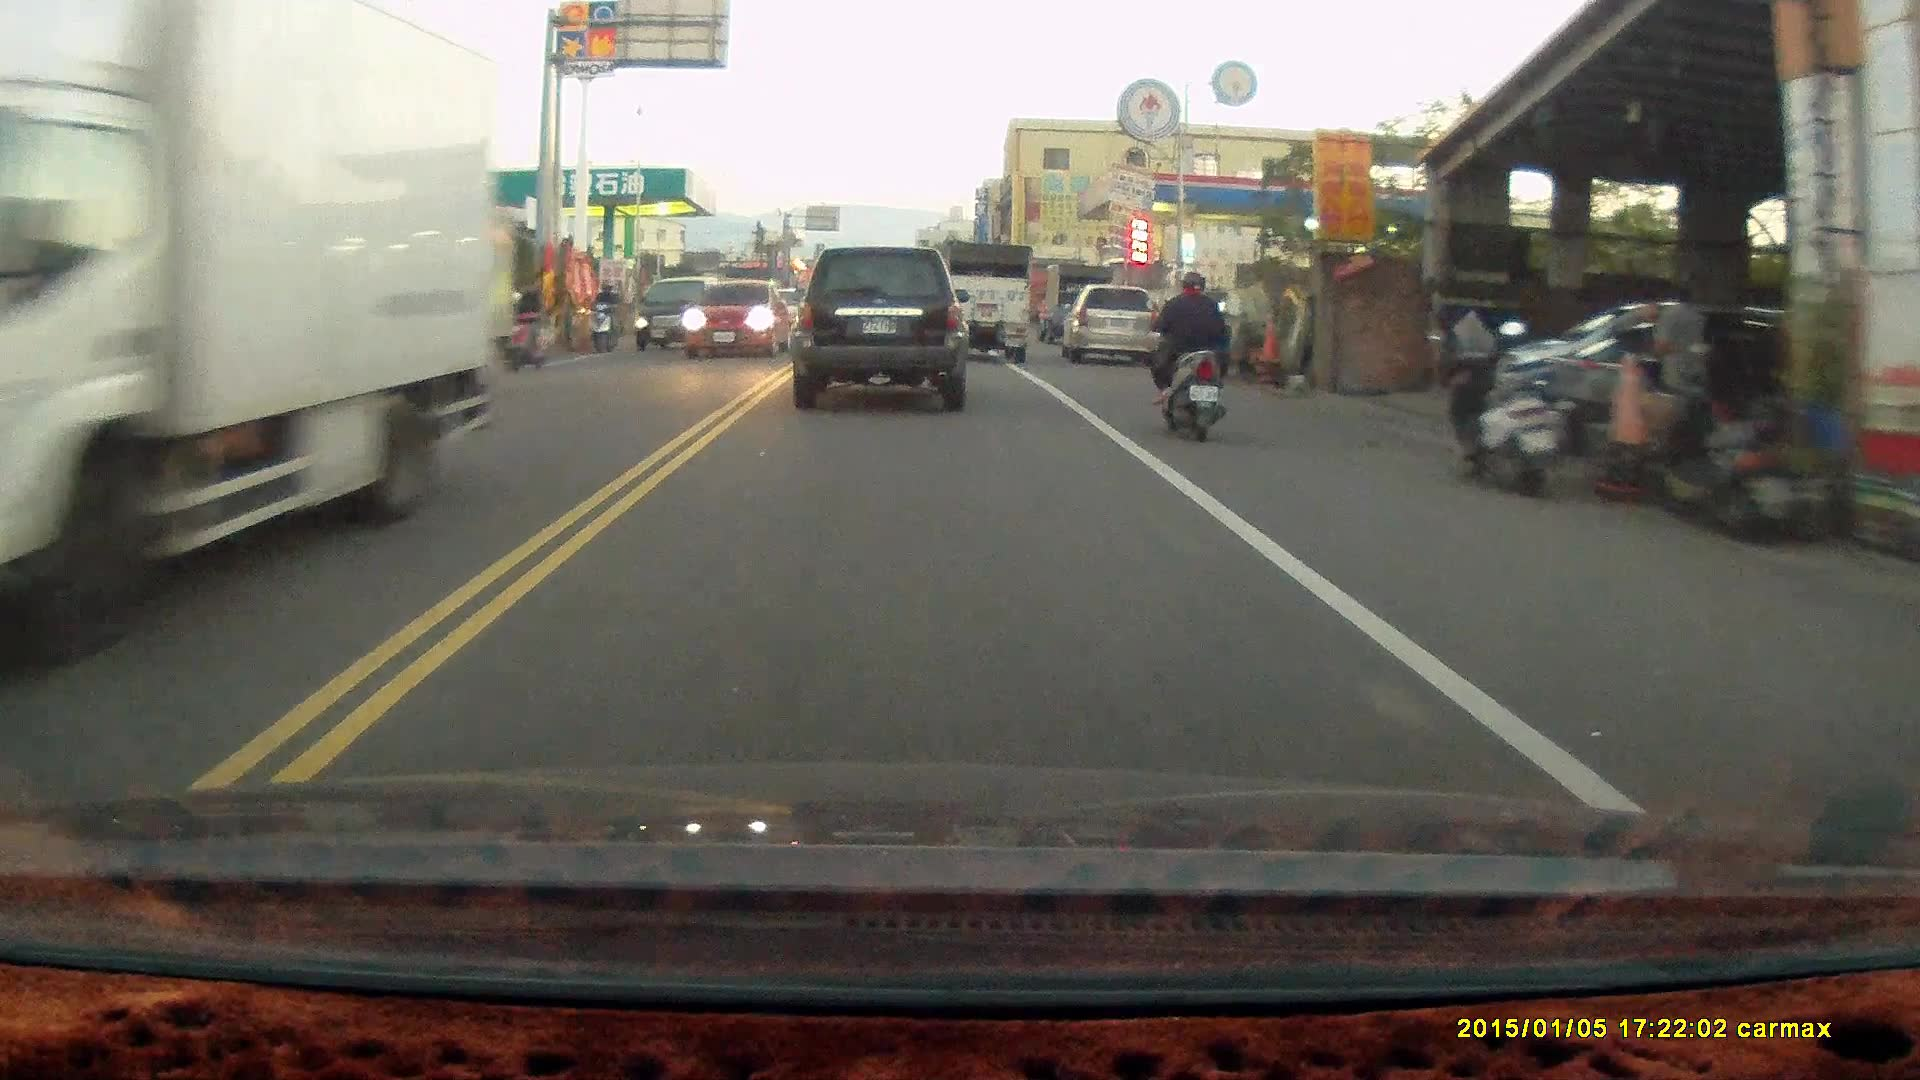pedestrian: (1653, 282, 1706, 431)
rider: (1145, 268, 1236, 444), (490, 284, 556, 372), (588, 278, 622, 350)
vehicle: (1, 29, 502, 631), (787, 243, 971, 412), (941, 238, 1034, 362), (681, 284, 796, 359), (1066, 284, 1158, 368), (634, 276, 727, 352)
